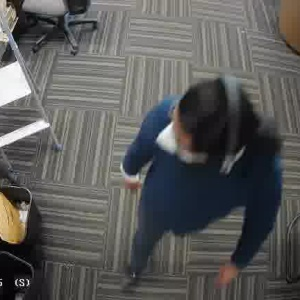person: (116, 83, 278, 280)
